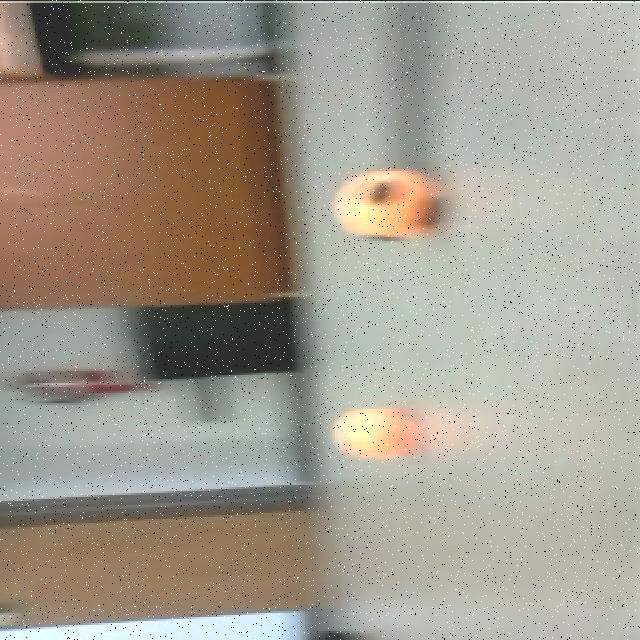ping-pong-ball: (331, 165, 446, 244), (324, 404, 418, 468)
